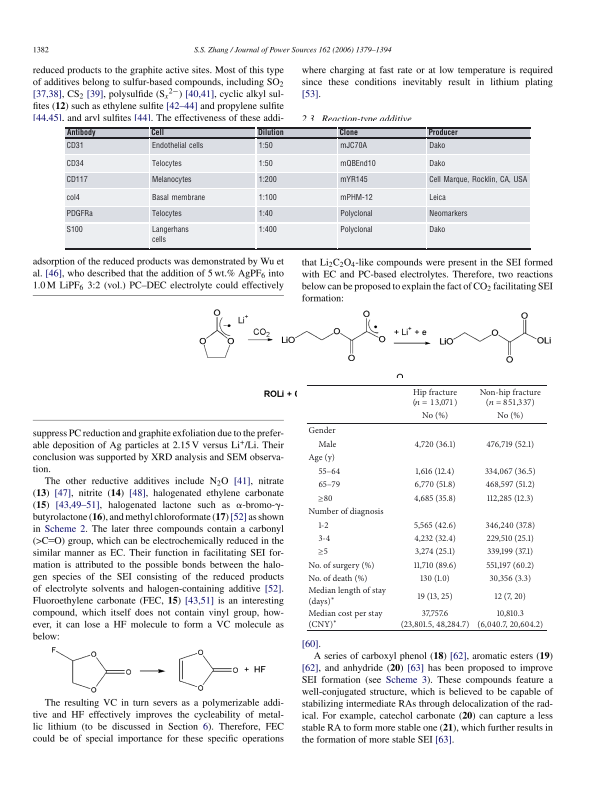borderless: (305, 383, 547, 630), (65, 126, 531, 248)
cell: (307, 585, 387, 607), (307, 608, 383, 630), (400, 608, 470, 630), (476, 608, 544, 630), (479, 387, 542, 410), (412, 387, 458, 410), (428, 175, 528, 185), (307, 506, 385, 517), (150, 225, 189, 245), (307, 560, 375, 570), (307, 573, 368, 584), (484, 466, 537, 477), (484, 520, 536, 531), (485, 439, 535, 450), (486, 533, 535, 544), (485, 480, 536, 490), (150, 193, 206, 202), (485, 560, 535, 570), (150, 141, 204, 150), (413, 439, 457, 450), (413, 520, 457, 531), (413, 533, 457, 544), (488, 573, 532, 584), (486, 493, 534, 503), (486, 547, 534, 557), (415, 466, 455, 477), (413, 493, 457, 503), (413, 560, 457, 570), (414, 480, 456, 490), (414, 547, 456, 557), (150, 175, 192, 185), (428, 209, 468, 219), (416, 591, 454, 601), (419, 573, 451, 584), (339, 209, 373, 219), (339, 225, 373, 235), (339, 159, 376, 168), (307, 425, 337, 436), (494, 591, 527, 601), (150, 209, 182, 219), (307, 452, 336, 463), (65, 128, 96, 138), (427, 128, 458, 138), (339, 193, 373, 202), (339, 175, 368, 185), (150, 159, 182, 168), (421, 411, 449, 421), (496, 411, 524, 421), (256, 128, 284, 138), (65, 209, 93, 219), (317, 466, 341, 477), (339, 141, 367, 150), (317, 480, 341, 490), (317, 490, 333, 505), (65, 175, 88, 185), (317, 439, 337, 450), (338, 128, 358, 138), (257, 175, 277, 185), (257, 225, 277, 235), (317, 543, 329, 559), (257, 193, 277, 202), (65, 225, 83, 235), (428, 225, 446, 235), (65, 141, 84, 150), (65, 159, 84, 168), (428, 141, 446, 150), (428, 159, 446, 168), (428, 193, 446, 202), (257, 209, 273, 219), (317, 533, 331, 544), (257, 141, 273, 150), (257, 159, 273, 168), (150, 128, 164, 138), (65, 193, 80, 202), (317, 520, 329, 531)
